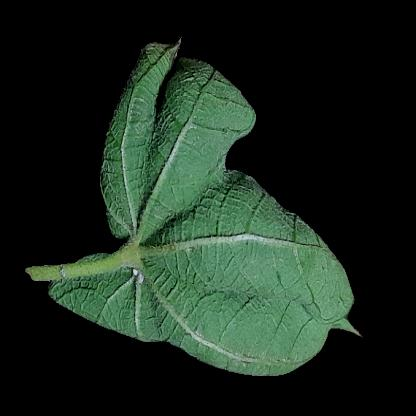curl_stage2: (174, 226, 315, 352), (128, 107, 226, 223), (100, 274, 175, 335), (314, 257, 352, 334), (144, 46, 192, 105), (126, 222, 174, 272), (229, 177, 268, 227)
